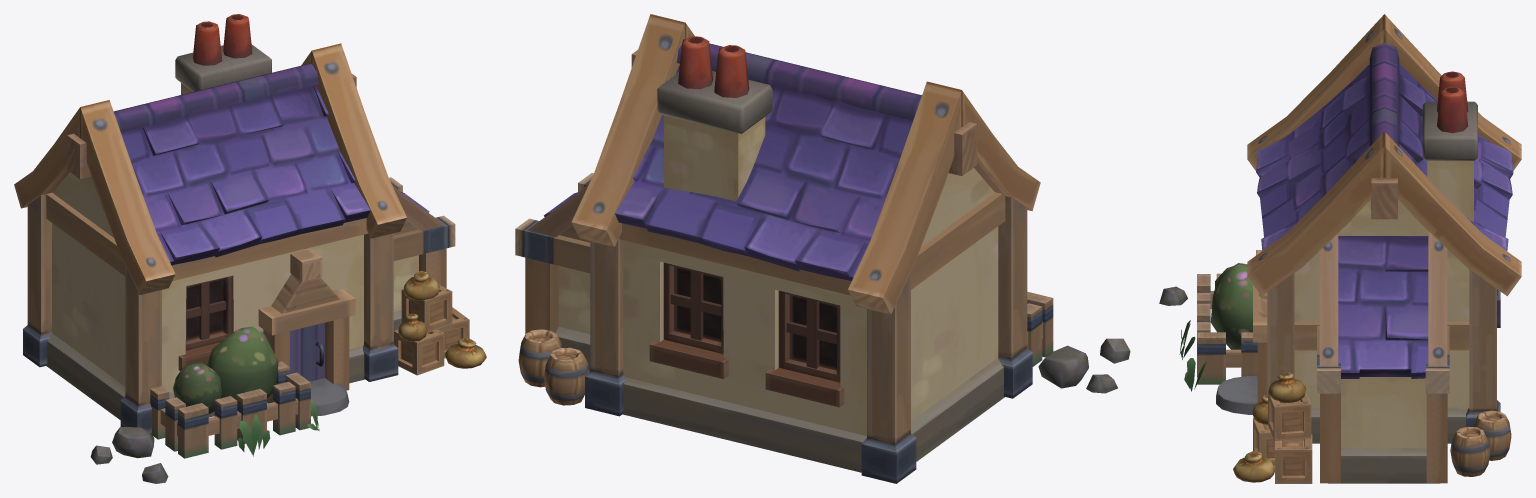
Rendered from house3.glb.
The picture shows the model from 3 angles, left to right: view 1: azimuth 30°, elevation 25°; view 2: azimuth 150°, elevation 25°; view 3: azimuth 270°, elevation 25°; orthographic projection. The views are drawn at different scales.
Parts seen in each view (by area): view 1: model_0; view 2: model_0; view 3: model_0.
Boxes of the visible parts, x1=… form: model_0: x1=14, y1=14, x2=486, y2=483; model_0: x1=515, y1=14, x2=1130, y2=483; model_0: x1=1159, y1=14, x2=1521, y2=483.
Bounding box in the file's own units: 1998 × 1512 × 1512.
1 material, 1 textured.
